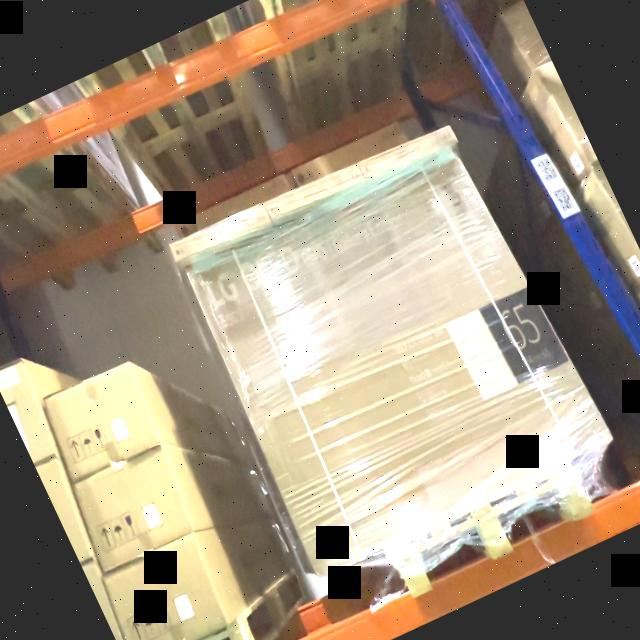box: (190, 152, 591, 567), (76, 454, 190, 568), (101, 540, 224, 640), (44, 369, 158, 476), (171, 202, 272, 266), (266, 160, 366, 223), (361, 120, 456, 180)
